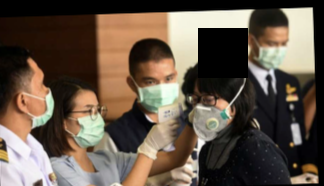with_mask: (186, 89, 228, 141), (135, 70, 180, 113), (69, 101, 105, 150), (27, 73, 54, 128), (255, 36, 287, 69)
